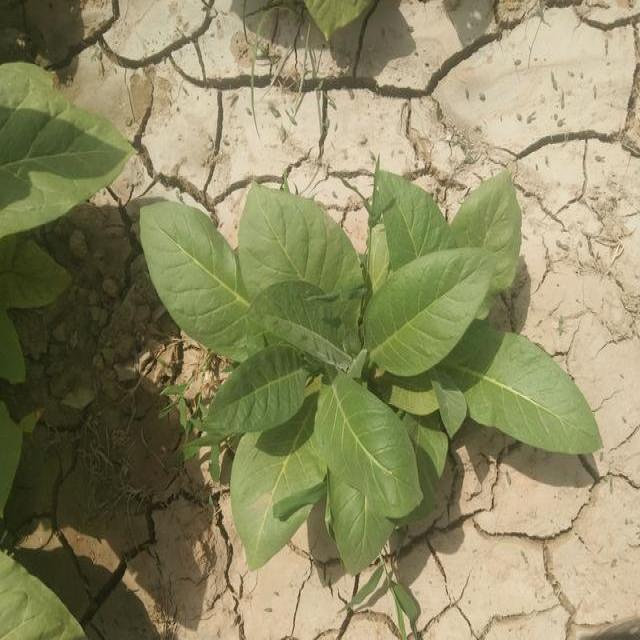crop: (140, 182, 544, 347), (214, 356, 404, 556), (406, 324, 594, 466), (0, 63, 125, 235)
